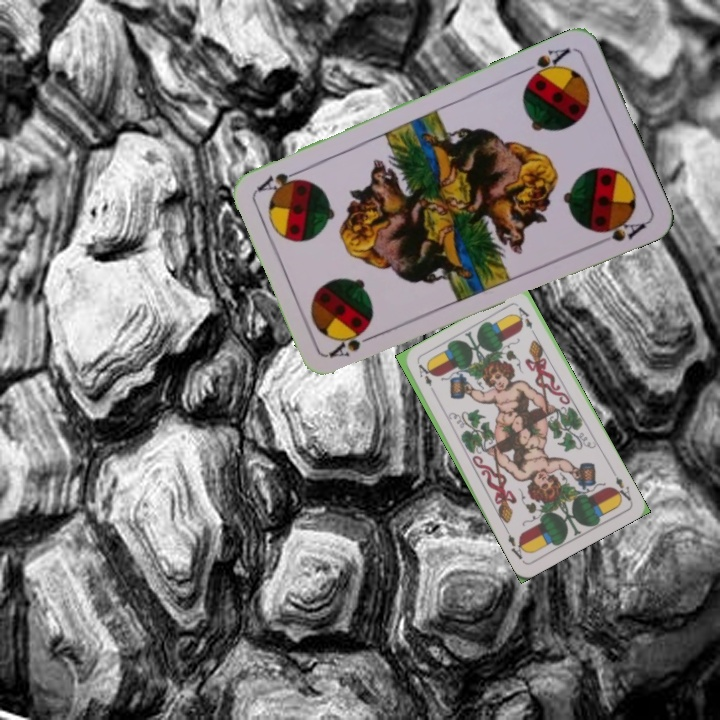EA: (414, 360, 438, 397), (610, 473, 634, 505)
SA: (519, 44, 573, 84), (325, 326, 382, 361)
